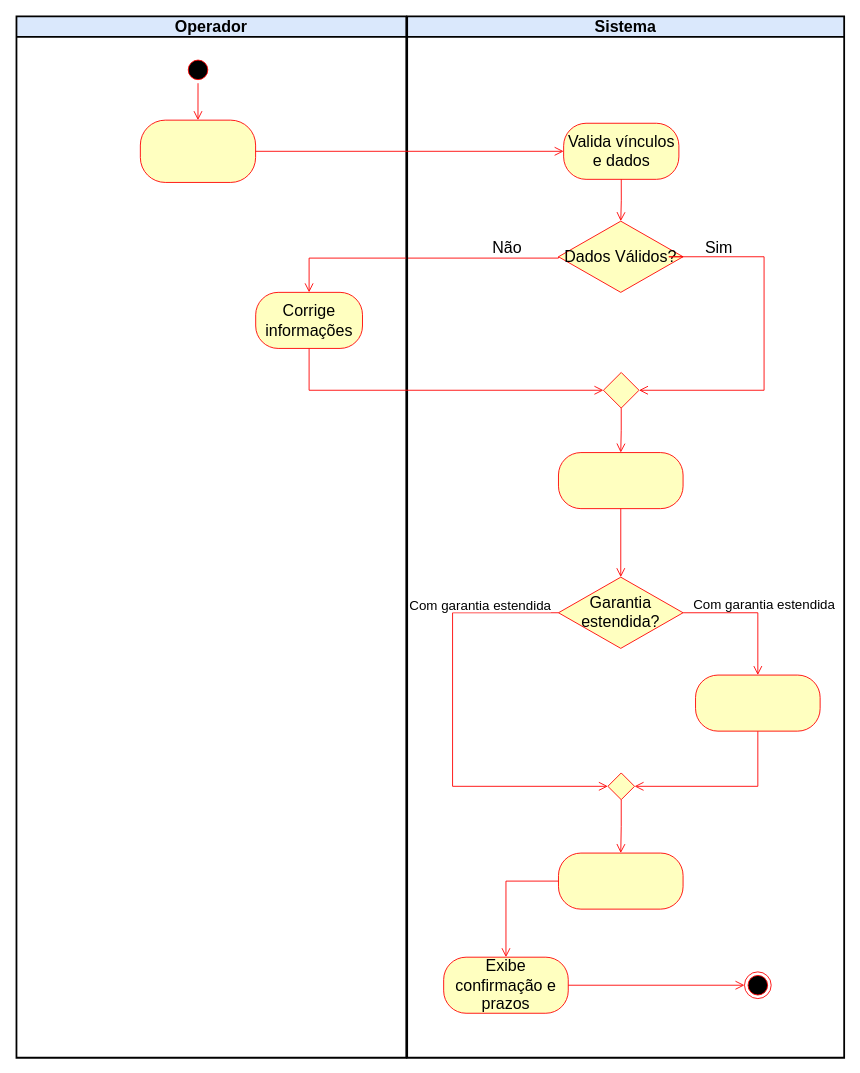
The diagram is 860 pixels wide and 1073 high, and some of its shapes have lost their labels. The shapes that lost their labels are listed below. From the top down, each one's box as (x1, y1, x2, y2) in pixels, then its label:
(139, 119, 256, 182): Preenche dados da venda e itens
(558, 452, 683, 509): Calcula garantias legal e contratual
(695, 674, 820, 731): Calcula garantia estendida
(558, 852, 683, 909): Persiste venda e vigências
